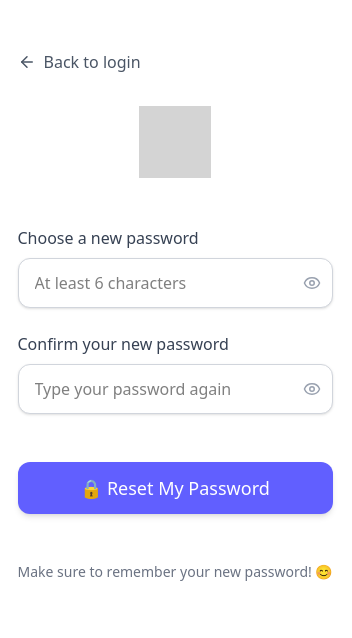
Test case: ResetPassword Component › handles generic API errors
The image size is (352, 638).
Type "validpassword" into the password field with test id "password-input".
click(175, 283); type("validpassword")  # box [18,258,332,308]
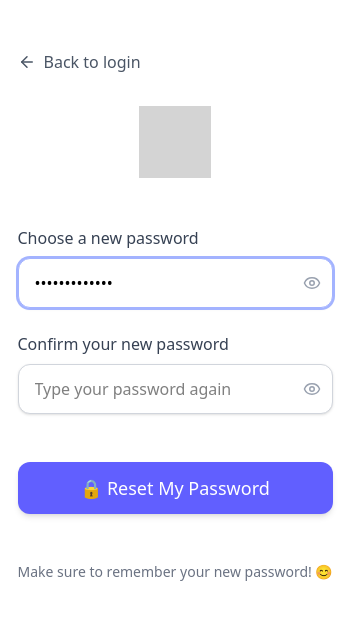
Type "validpassword" into the password field with test id "confirm-password-input".
click(175, 389); type("validpassword")  # box [18,364,332,414]
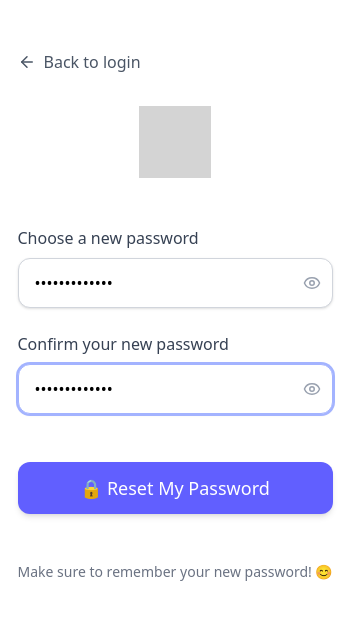
Click the button with test id "reset-password-button".
click(175, 488)  # box [18,462,332,514]
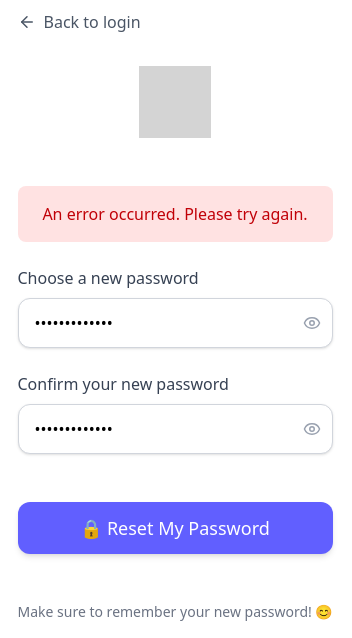
Result: the text "An error occurred. Please try again." is shown at [18,186,332,242]
Result: the text with test id "error-message" reads "An error occurred. Please try again." at [42,203,308,225]
